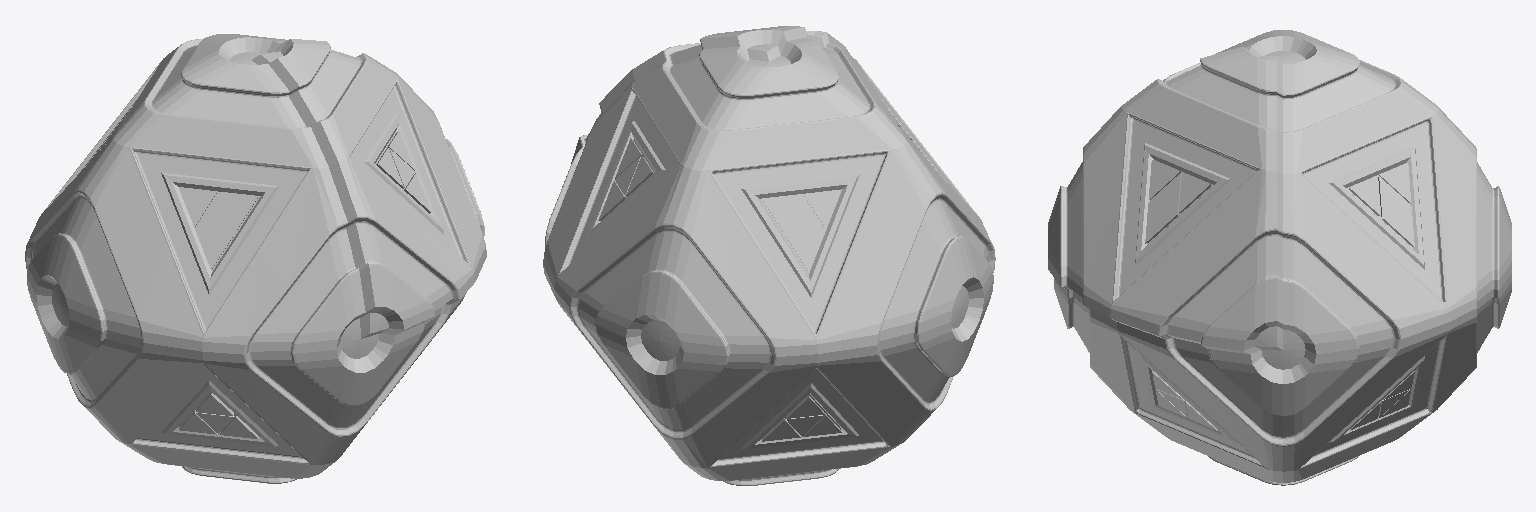
The model's file is cable_painter.obj.
The picture shows the model from 3 angles: view 1: azimuth 30°, elevation 25°; view 2: azimuth 150°, elevation 25°; view 3: azimuth 270°, elevation 25°; orthographic projection.
Visible parts, largest first — view 1: Circle; view 2: Circle; view 3: Circle.
Boxes of the visible parts, x1=… form: Circle: x1=25, y1=34, x2=486, y2=483; Circle: x1=543, y1=26, x2=995, y2=485; Circle: x1=1048, y1=30, x2=1511, y2=485.
Size of the model in its own units: 1.13 by 1.13 by 1.13.